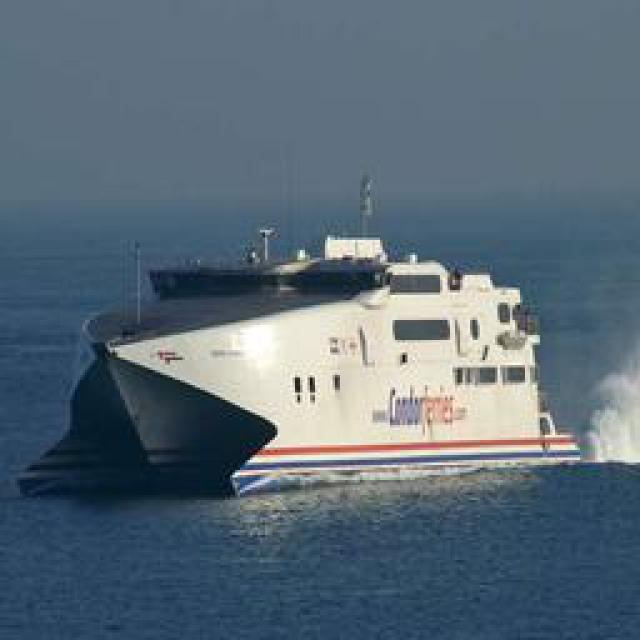Ship: (75, 237, 578, 487)
